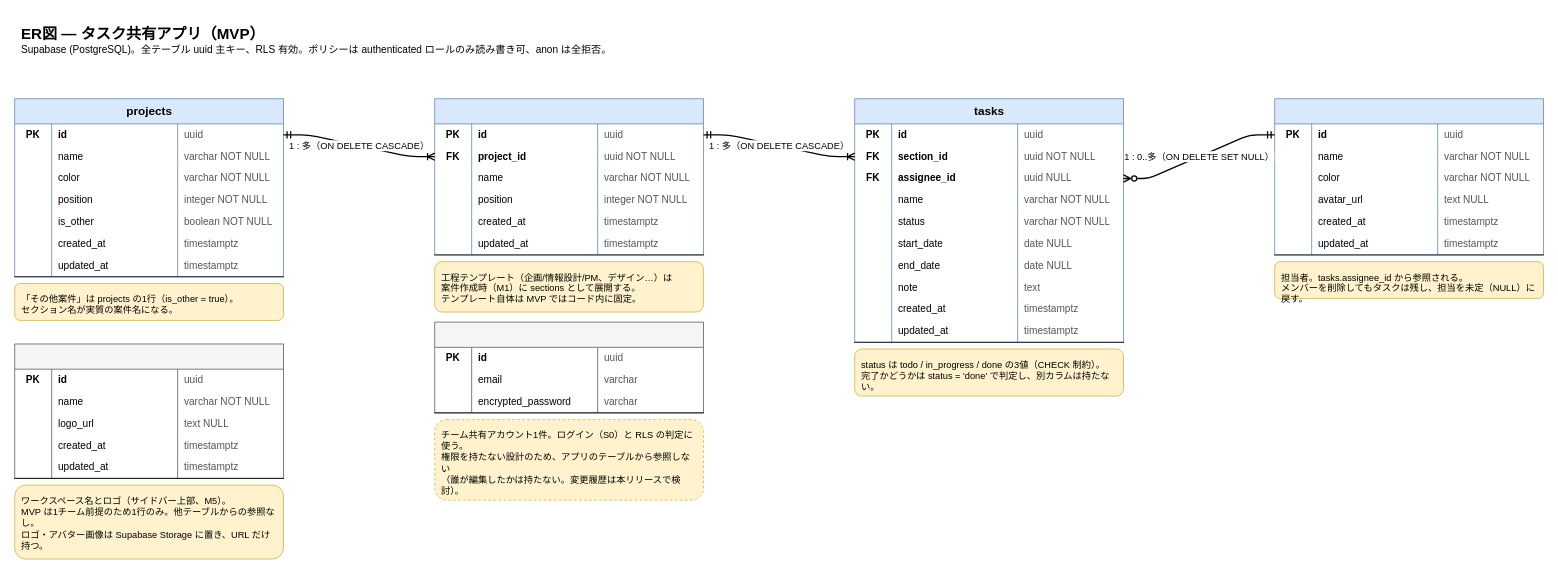
The diagram is 1558 pixels wide and 574 high, and some of its shapes have lost their labels. The box of each missing label's shape, as (x1, y1, x2, y2) in pixels:
auth.users（Supabase 管理）: (434, 321, 704, 413)
members: (1274, 98, 1544, 255)
sections: (434, 98, 704, 255)
workspaces: (14, 343, 284, 478)
